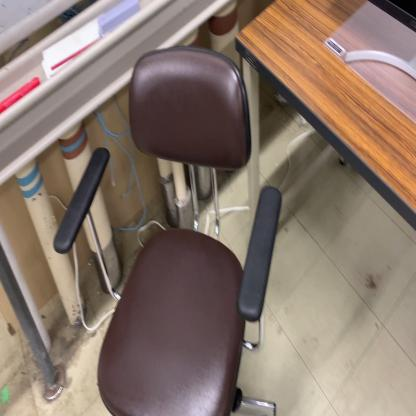chair: (53, 44, 281, 416)
